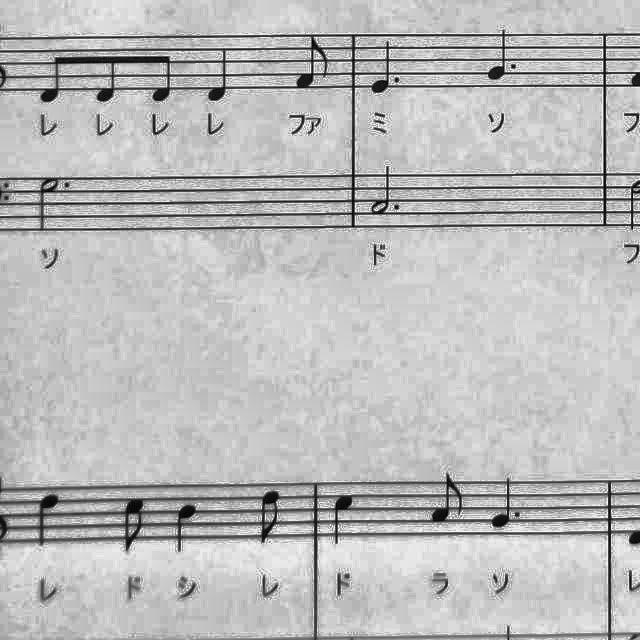Eighth-note: (425, 469, 471, 529), (293, 36, 335, 96), (118, 494, 154, 562), (88, 45, 124, 111), (36, 49, 74, 111), (254, 486, 290, 550), (144, 44, 180, 108)
Half-dot: (34, 172, 78, 236), (366, 162, 406, 220)
Quarter-dot: (486, 473, 530, 533), (482, 27, 522, 88), (364, 40, 404, 96)
Quarter-note: (29, 486, 66, 554), (201, 42, 237, 110), (327, 488, 363, 552), (168, 497, 204, 559)
